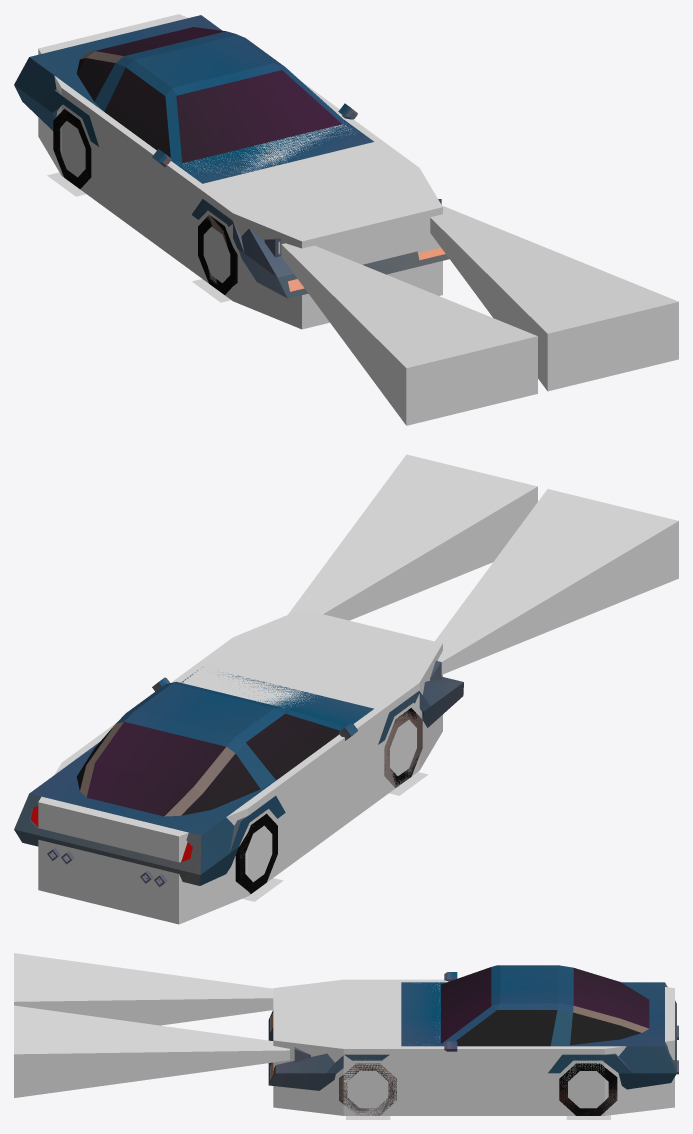
Rendered from Vortex.fbx.
3 views of the same model, one above another, from view 1: azimuth 30°, elevation 25°; view 2: azimuth 150°, elevation 25°; view 3: azimuth 270°, elevation 25° (orthographic). The views are drawn at different scales.
Visible parts, largest first — view 1: vortex_gr, vortex_cldr, vortex, vortex_lckd, TireSmokeMesh; view 2: vortex_cldr, vortex_gr, vortex, vortex_lckd, vortex_frontwheels; view 3: vortex_cldr, vortex_gr, vortex, vortex_lckd, vortex_frontwheels, vortex_rearwheels, TireSmokeMesh.
Part boxes in pixels (<box>): vortex_gr: <box>281,205,678,425</box>; vortex_cldr: <box>38,14,442,329</box>; vortex: <box>14,15,449,298</box>; vortex_lckd: <box>53,109,237,294</box>; TireSmokeMesh: <box>47,172,230,302</box>; vortex_cldr: <box>38,609,442,924</box>; vortex_gr: <box>288,454,678,674</box>; vortex: <box>14,660,463,886</box>; vortex_lckd: <box>235,708,418,893</box>; vortex_frontwheels: <box>384,710,422,788</box>; vortex_cldr: <box>273,979,674,1115</box>; vortex_gr: <box>14,953,289,1097</box>; vortex: <box>268,965,678,1090</box>; vortex_lckd: <box>339,1063,617,1115</box>; vortex_frontwheels: <box>339,1063,396,1115</box>; vortex_rearwheels: <box>559,1081,617,1115</box>; TireSmokeMesh: <box>346,1115,610,1119</box>.
Size of the model in its own units: 4.77 by 2.14 by 13.25.
